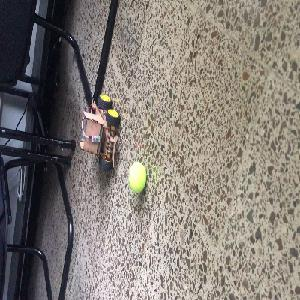Ball: (127, 162, 146, 194)
Robot: (78, 94, 121, 170)
